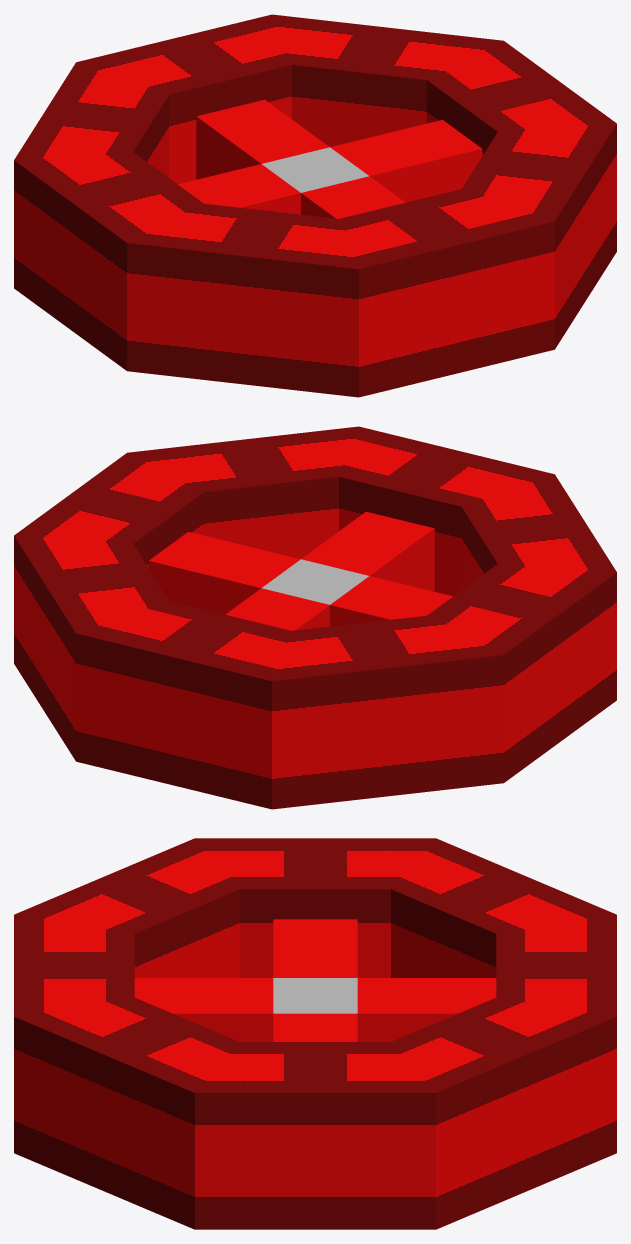
File: valve.gltf
The picture shows the model from 3 angles, top to bottom: view 1: azimuth 30°, elevation 25°; view 2: azimuth 150°, elevation 25°; view 3: azimuth 270°, elevation 25°; orthographic projection. The views are drawn at different scales.
Visible parts, largest first — view 1: Cylinder; view 2: Cylinder; view 3: Cylinder.
Boxes of the visible parts, x1,y1,x2,y2 form: Cylinder: (14,14,616,397); Cylinder: (14,426,616,809); Cylinder: (14,838,616,1229).
Size of the model in its own units: 2 by 0.5 by 2.
Materials: 1 (1 with a texture image).
